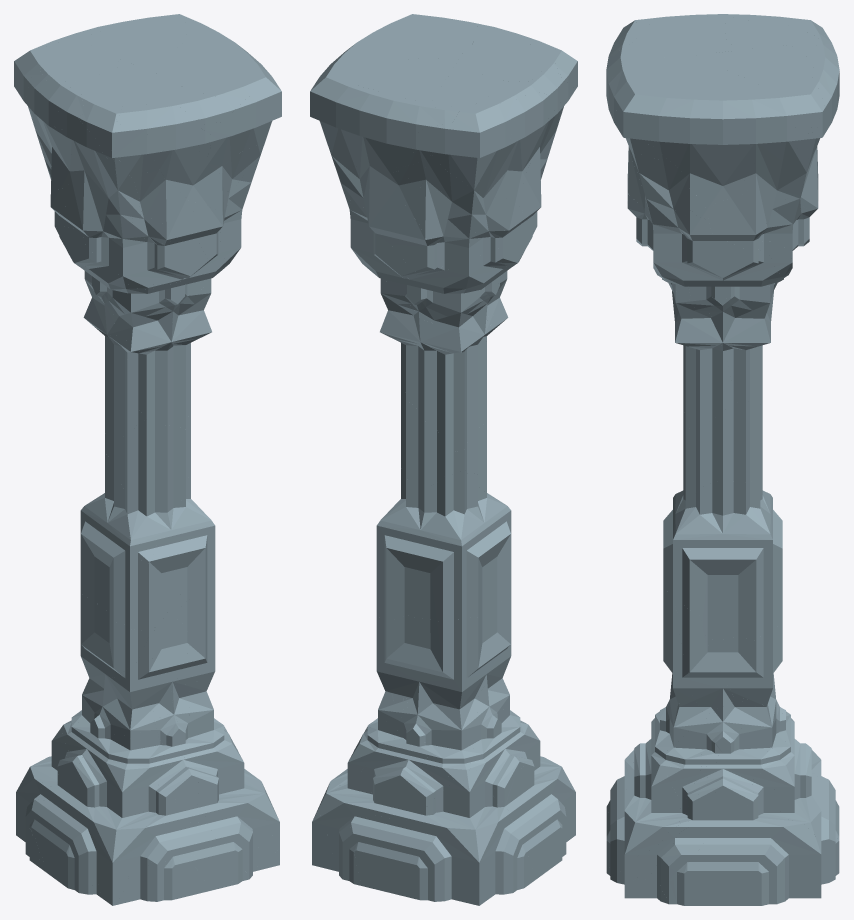
The model's file is column_max_frags.FBX.
3 renders of one model, left to right at view 1: azimuth 30°, elevation 25°; view 2: azimuth 150°, elevation 25°; view 3: azimuth 270°, elevation 25°, orthographic.
Visible parts, largest first — view 1: column_frag_010, column_frag_004, column_frag_033, column_frag_007, column_frag_044, column_frag_027, column_frag_013, column_frag_023, column_frag_011, column_frag_014, column_frag_037, column_frag_048 (+24 smaller); view 2: column_frag_004, column_frag_019, column_frag_005, column_frag_036, column_frag_012, column_frag_008, column_frag_002, column_frag_010, column_frag_020, column_frag_035, column_frag_017, column_frag_027 (+12 smaller); view 3: column_frag_027, column_frag_004, column_frag_051, column_frag_024, column_frag_057, column_frag_007, column_frag_033, column_frag_026, column_frag_008, column_frag_013, column_frag_047, column_frag_037 (+21 smaller).
Boxes of the visible parts, left/top/right/bottom form: column_frag_010: left=28, top=723, right=163, bottom=905; column_frag_004: left=80, top=453, right=215, bottom=632; column_frag_033: left=184, top=734, right=279, bottom=890; column_frag_007: left=105, top=415, right=190, bottom=563; column_frag_044: left=48, top=117, right=158, bottom=290; column_frag_027: left=159, top=19, right=281, bottom=119; column_frag_013: left=114, top=287, right=211, bottom=429; column_frag_023: left=118, top=103, right=228, bottom=215; column_frag_011: left=57, top=628, right=155, bottom=777; column_frag_014: left=81, top=241, right=204, bottom=352; column_frag_037: left=70, top=59, right=229, bottom=126; column_frag_048: left=155, top=676, right=222, bottom=822; column_frag_004: left=376, top=468, right=511, bottom=621; column_frag_019: left=350, top=774, right=536, bottom=905; column_frag_005: left=376, top=593, right=511, bottom=783; column_frag_036: left=386, top=103, right=522, bottom=244; column_frag_012: left=310, top=84, right=476, bottom=213; column_frag_008: left=380, top=278, right=494, bottom=451; column_frag_002: left=348, top=199, right=527, bottom=353; column_frag_010: left=499, top=703, right=575, bottom=876; column_frag_020: left=347, top=697, right=485, bottom=822; column_frag_035: left=366, top=179, right=529, bottom=277; column_frag_017: left=420, top=92, right=556, bottom=202; column_frag_027: left=318, top=14, right=477, bottom=78; column_frag_027: left=608, top=55, right=796, bottom=210; column_frag_004: left=663, top=475, right=782, bottom=639; column_frag_051: left=658, top=759, right=821, bottom=905; column_frag_024: left=641, top=181, right=779, bottom=314; column_frag_057: left=649, top=704, right=774, bottom=880; column_frag_007: left=663, top=399, right=762, bottom=521; column_frag_033: left=606, top=738, right=683, bottom=873; column_frag_026: left=695, top=45, right=825, bottom=196; column_frag_008: left=704, top=284, right=773, bottom=404; column_frag_013: left=672, top=288, right=732, bottom=429; column_frag_047: left=706, top=114, right=823, bottom=252; column_frag_037: left=606, top=15, right=747, bottom=87.
Bounding box in the file's own units: 78.02 × 295 × 78.02.
